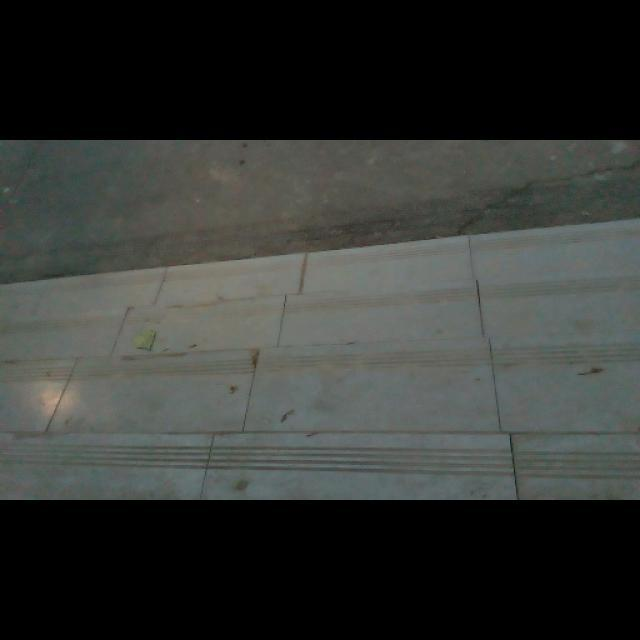stair: (15, 242, 640, 490)
